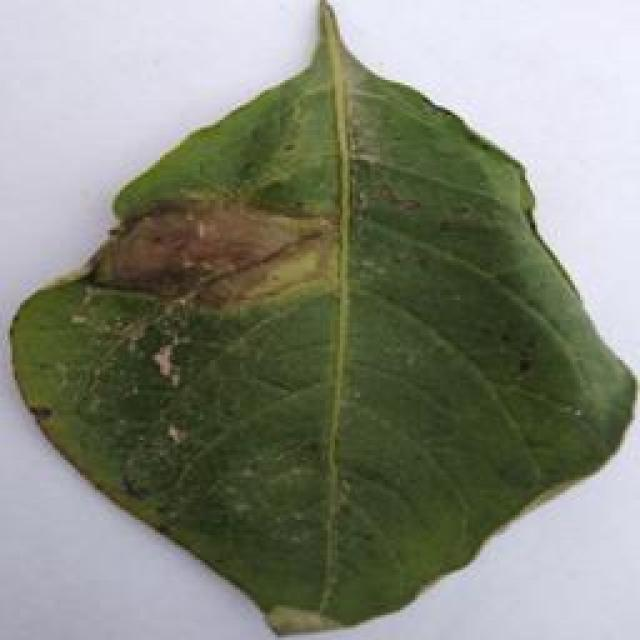Potato_Late_Blight: (9, 2, 622, 632)
